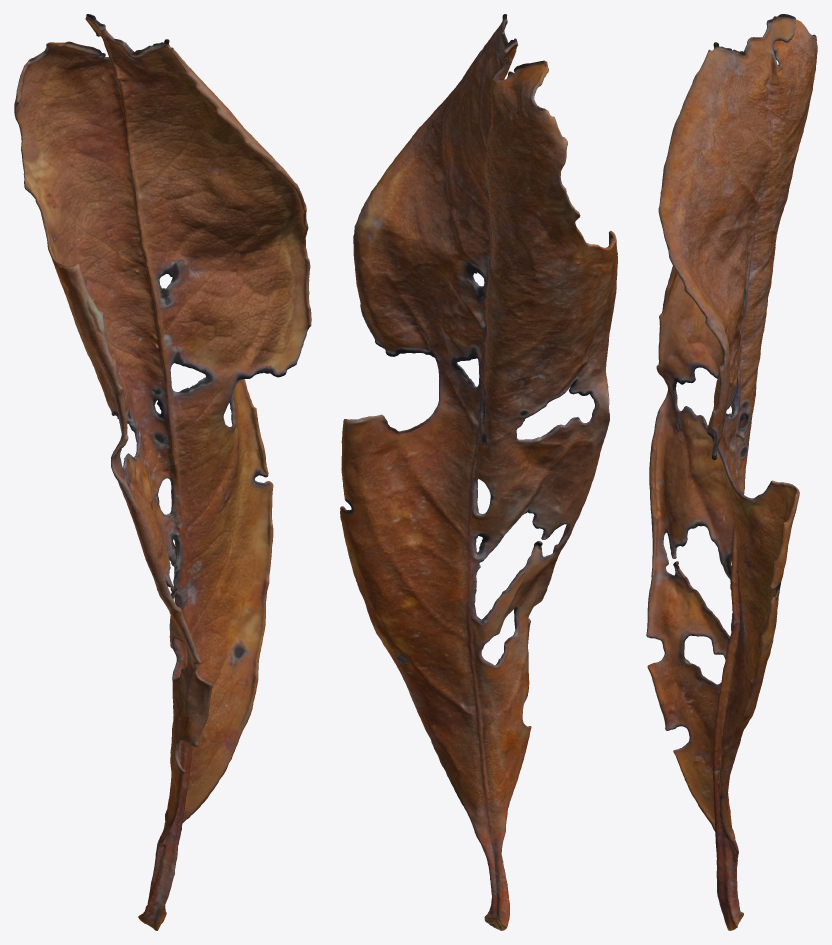
Rendered from dry-transformed.glb.
The picture shows the model from 3 angles, left to right: view 1: azimuth 30°, elevation 25°; view 2: azimuth 150°, elevation 25°; view 3: azimuth 270°, elevation 25°; orthographic projection. The views are drawn at different scales.
Parts seen in each view (by area): view 1: Object_2; view 2: Object_2; view 3: Object_2.
Part boxes in pixels (bbox=[...]): Object_2: bbox=[14, 14, 311, 930]; Object_2: bbox=[340, 14, 617, 930]; Object_2: bbox=[646, 14, 817, 930].
Bounding box in the file's own units: 1.39 × 4.73 × 0.8182.
1 material, 1 textured.
